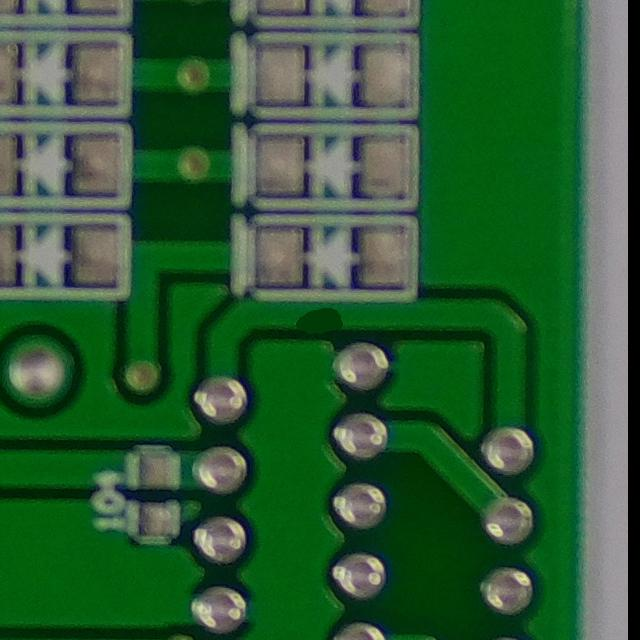mouse_bite: (284, 299, 357, 341)
